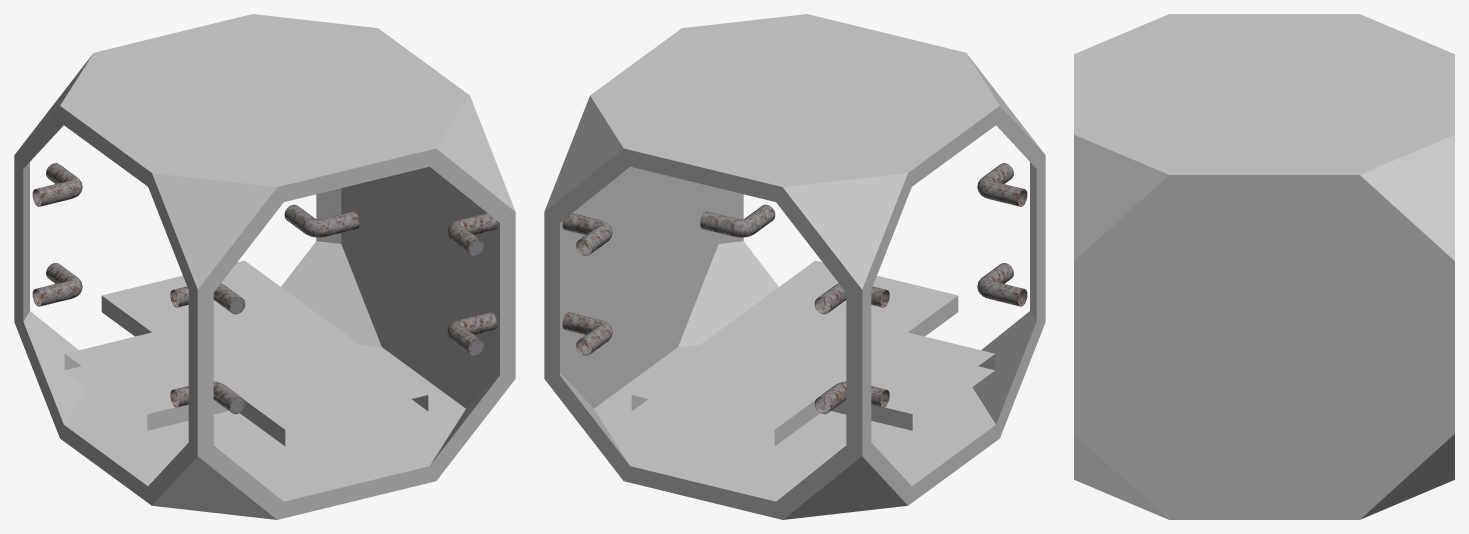
The model's file is LabTunnel_TTurn.fbx.
3 renders of one model, left to right at view 1: azimuth 30°, elevation 25°; view 2: azimuth 150°, elevation 25°; view 3: azimuth 270°, elevation 25°, orthographic. The views are drawn at different scales.
Visible parts, largest first — view 1: Ceiling.001, Platform_X.002, Corner.020, Floor.018, Corner.018, Corner.019, Corner.028, Corner.017, Corner.014, Pipe_Curved.015, Pipe_Curved.014, Pipe_Curved.016 (+1 smaller); view 2: Ceiling.001, Platform_X.002, Corner.020, Floor.018, Corner.017, Corner.014, Corner.018, Corner.028, Corner.019, Pipe_Curved.016, Pipe_Curved.017, Pipe_Curved.015 (+1 smaller); view 3: Corner.020, Ceiling.001, Corner.028, Corner.014, Corner.019, Floor.018.
Boxes of the visible parts, x1,y1,x2,y2 form: Ceiling.001: [60, 14, 469, 201]; Platform_X.002: [64, 260, 428, 446]; Corner.020: [341, 166, 499, 408]; Floor.018: [60, 344, 465, 519]; Corner.018: [148, 173, 283, 519]; Corner.019: [430, 96, 515, 480]; Corner.028: [341, 167, 499, 407]; Corner.017: [14, 54, 92, 437]; Corner.014: [281, 188, 381, 346]; Pipe_Curved.015: [32, 163, 82, 306]; Pipe_Curved.014: [447, 213, 497, 355]; Pipe_Curved.016: [170, 283, 245, 414]; Ceiling.001: [590, 14, 999, 201]; Platform_X.002: [631, 260, 995, 446]; Corner.020: [560, 166, 718, 408]; Floor.018: [594, 344, 999, 519]; Corner.017: [776, 173, 911, 519]; Corner.014: [544, 96, 629, 480]; Corner.018: [967, 54, 1045, 437]; Corner.028: [560, 177, 717, 407]; Corner.019: [678, 188, 778, 346]; Pipe_Curved.016: [977, 163, 1027, 306]; Pipe_Curved.017: [562, 213, 612, 355]; Pipe_Curved.015: [814, 283, 889, 414]; Corner.020: [1093, 192, 1435, 502]; Ceiling.001: [1074, 14, 1454, 192]; Corner.028: [1093, 192, 1435, 502]; Corner.014: [1352, 135, 1454, 519]; Corner.019: [1074, 135, 1176, 519]; Floor.018: [1169, 502, 1359, 519].
Size of the model in its own units: 500 by 500 by 500.
